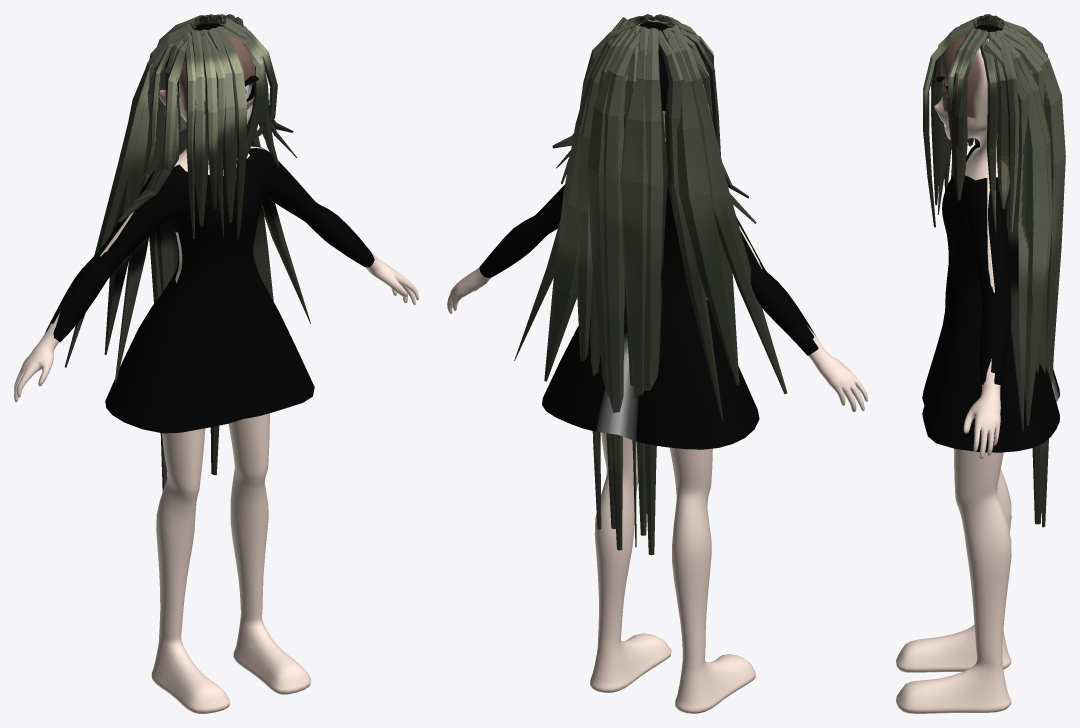
File: Spooker.fbx
3 views of the same model, side by side, from view 1: azimuth 30°, elevation 25°; view 2: azimuth 150°, elevation 25°; view 3: azimuth 270°, elevation 25° (orthographic). The views are drawn at different scales.
Parts seen in each view (by area): view 1: Base.002, NurbsPath, Base; view 2: NurbsPath, Base.002, Base; view 3: NurbsPath, Base, Base.002.
Boxes of the visible parts, left/top/right/bottom form: Base.002: left=45, top=145, right=374, bottom=433; NurbsPath: left=64, top=14, right=310, bottom=491; Base: left=14, top=23, right=418, bottom=713; NurbsPath: left=514, top=14, right=787, bottom=555; Base.002: left=479, top=185, right=818, bottom=449; Base: left=447, top=19, right=867, bottom=713; NurbsPath: left=923, top=14, right=1065, bottom=527; Base: left=896, top=25, right=1011, bottom=713; Base.002: left=922, top=143, right=1059, bottom=452.
Bounding box in the file's own units: 113 × 175 × 40.54.
5 materials, 3 textured.
